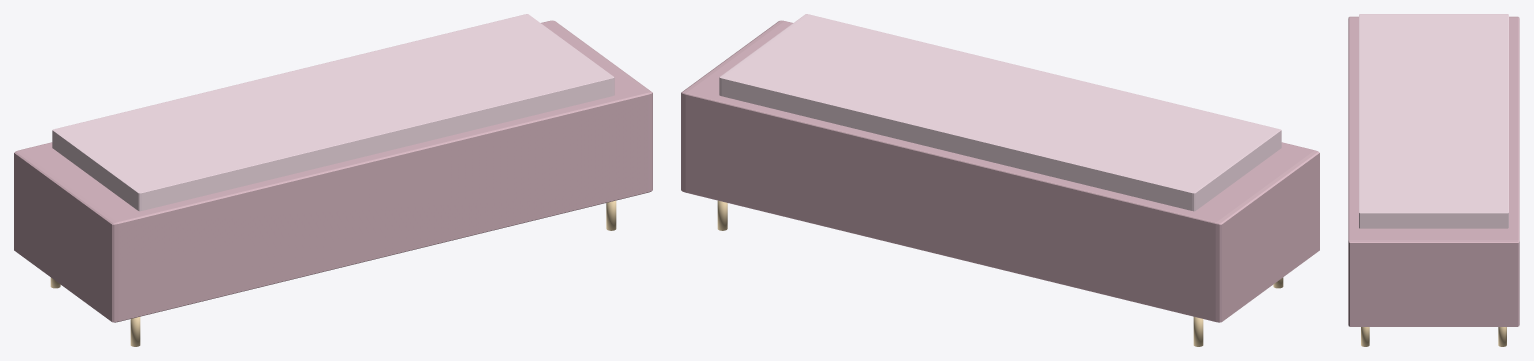
File: concierge-table.glb
3 views of the same model, side by side, from view 1: azimuth 30°, elevation 25°; view 2: azimuth 150°, elevation 25°; view 3: azimuth 270°, elevation 25° (orthographic). The views are drawn at different scales.
Parts seen in each view (by area): view 1: table_body, table_top; view 2: table_body, table_top; view 3: table_top, table_body, table_leg_1_-1, table_leg_1_1.
Part boxes in pixels (x1,y1,x2,y2): table_body: (14, 20, 652, 322); table_top: (52, 14, 614, 211); table_body: (681, 20, 1319, 322); table_top: (719, 14, 1281, 211); table_top: (1359, 14, 1508, 228); table_body: (1348, 16, 1519, 326); table_leg_1_-1: (1361, 327, 1369, 346); table_leg_1_1: (1498, 327, 1506, 346).
Size of the model in its own units: 2.5 by 0.68 by 0.8.
